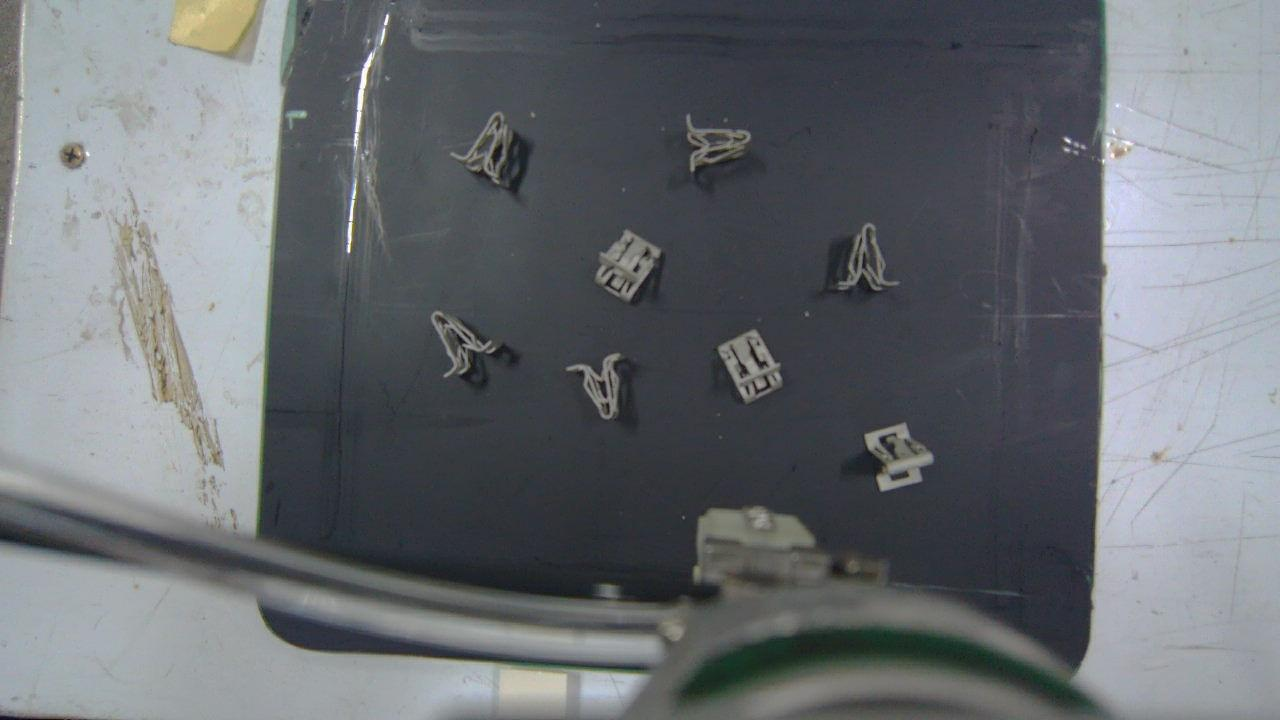ng: (451, 109, 515, 190), (593, 228, 664, 301), (718, 329, 784, 405), (432, 310, 503, 378), (836, 224, 899, 291), (684, 116, 751, 175), (569, 353, 625, 419)
pass: (866, 419, 931, 492)
